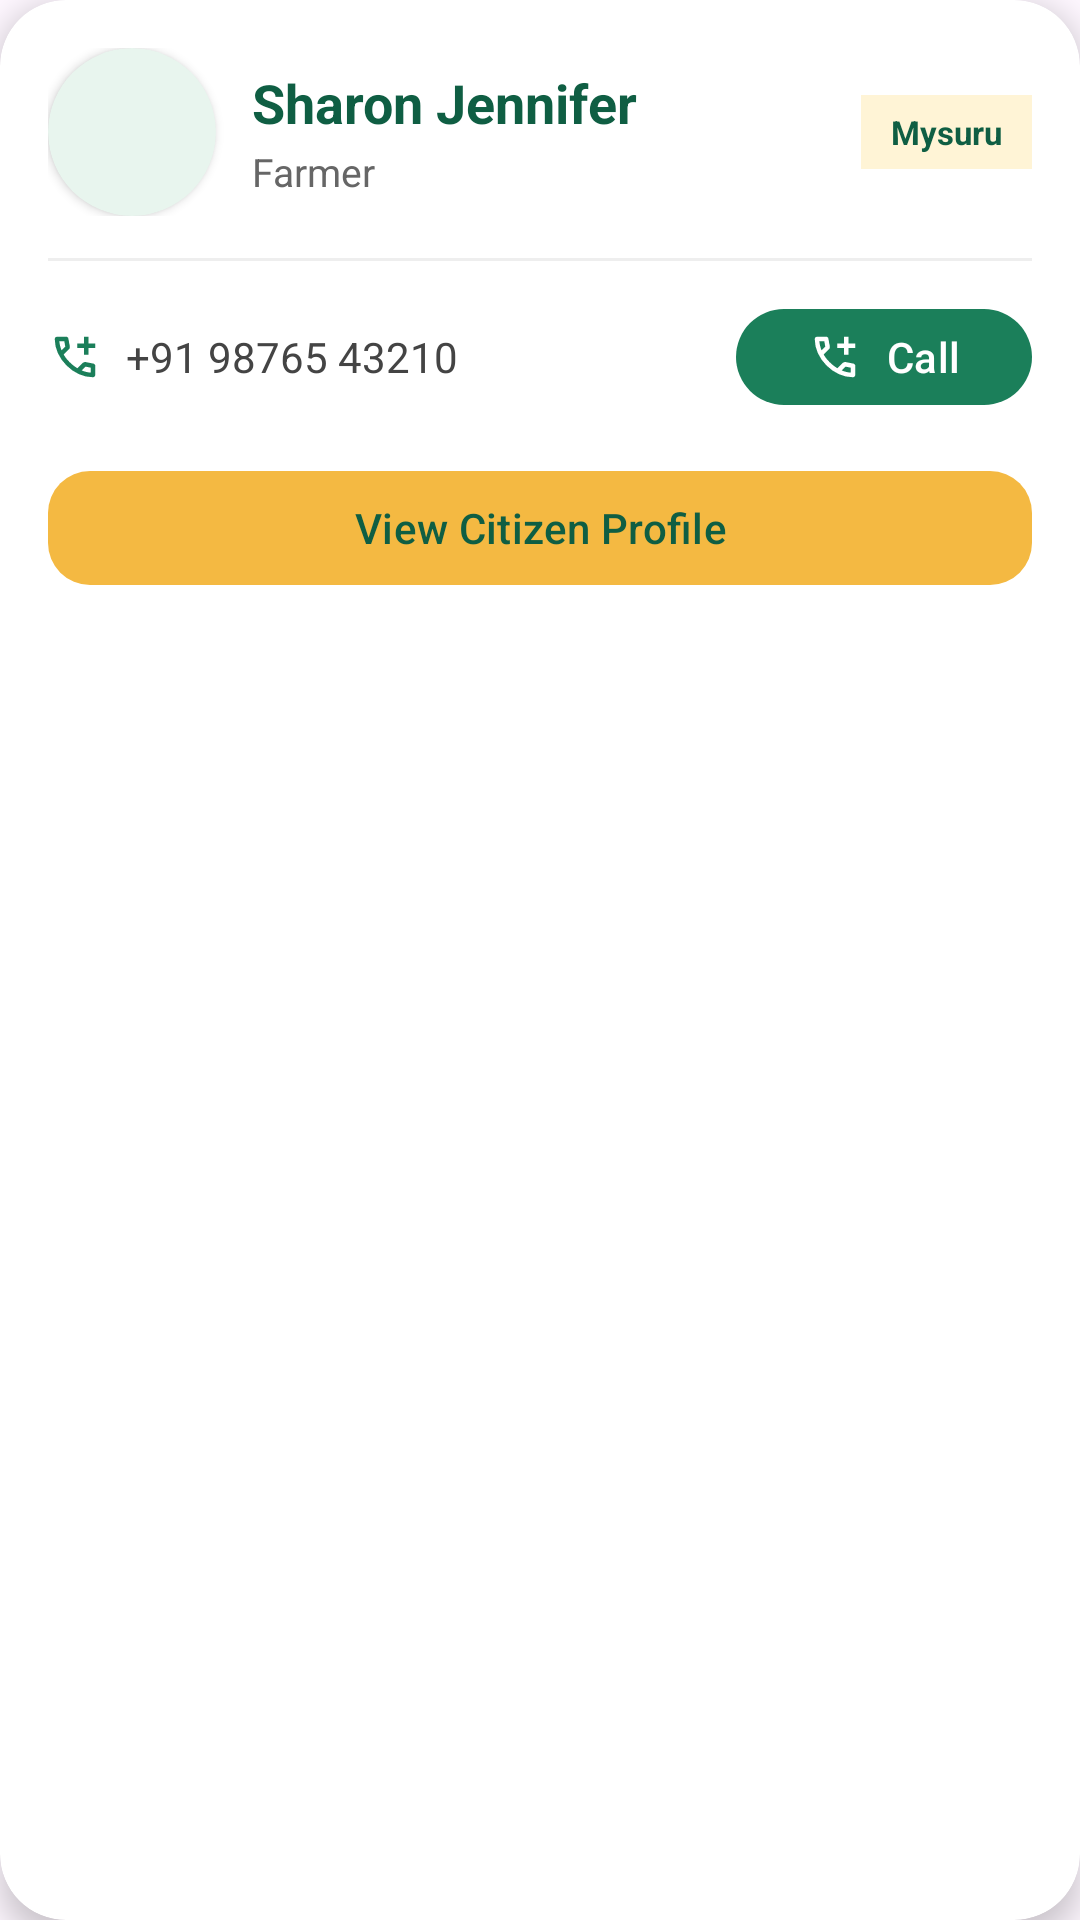

Icons on this 1080 × 1920 Android screen, each with the point to tap as (x,y):
phone: (75,357)
